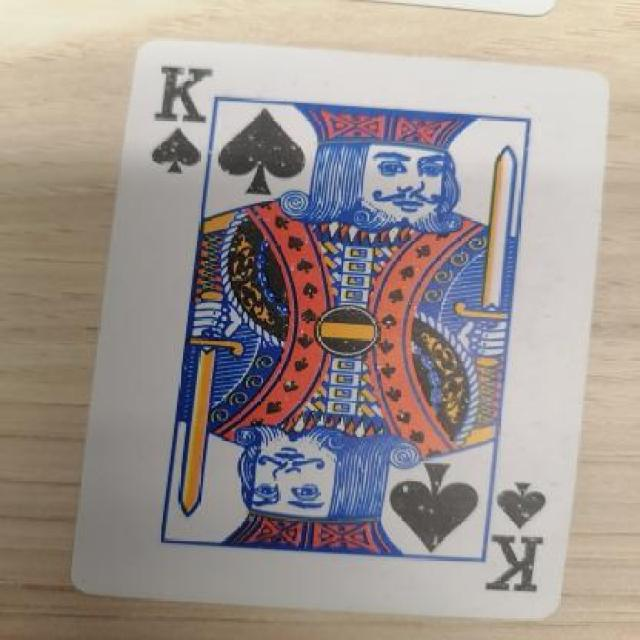KS: (111, 64, 232, 176), (478, 470, 571, 608)
